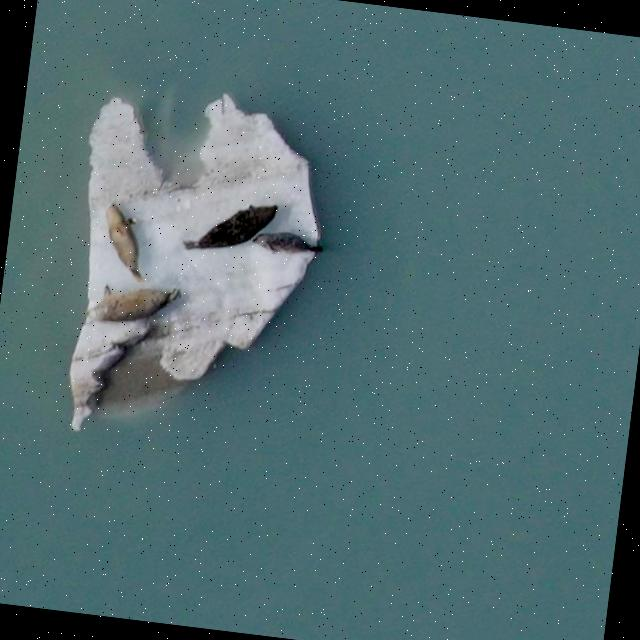seal: (183, 190, 286, 269), (85, 281, 181, 328), (104, 200, 144, 284), (251, 229, 323, 253)
